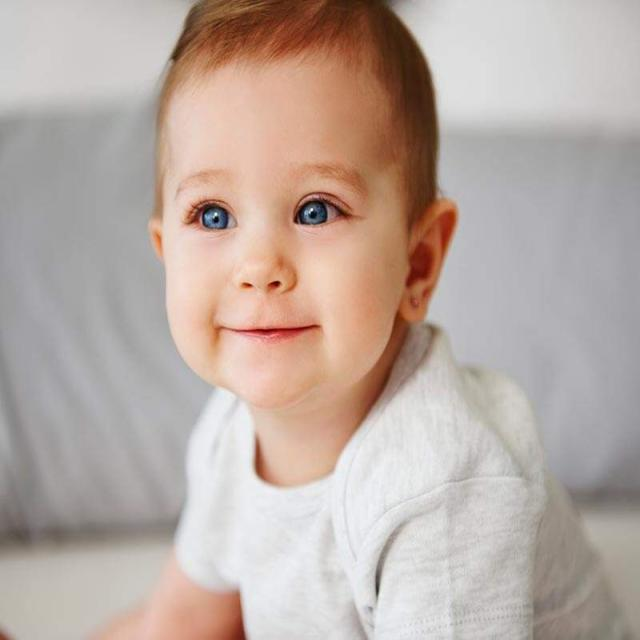child: (139, 2, 640, 640)
